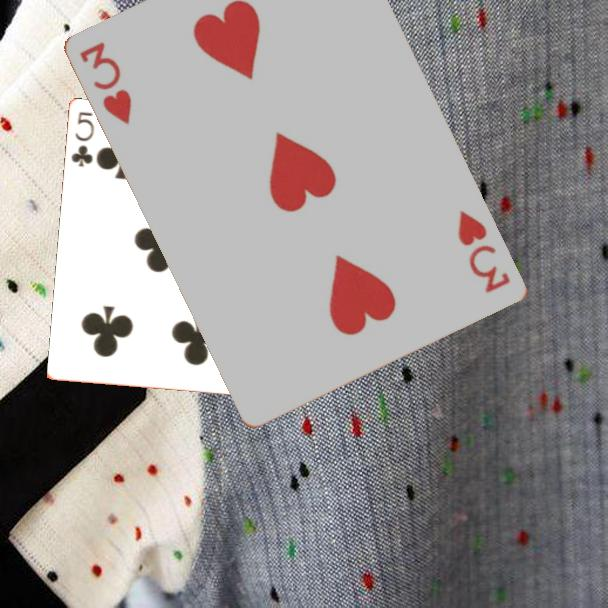c05: (68, 108, 97, 170)
h03: (76, 38, 135, 129), (455, 207, 514, 296)
